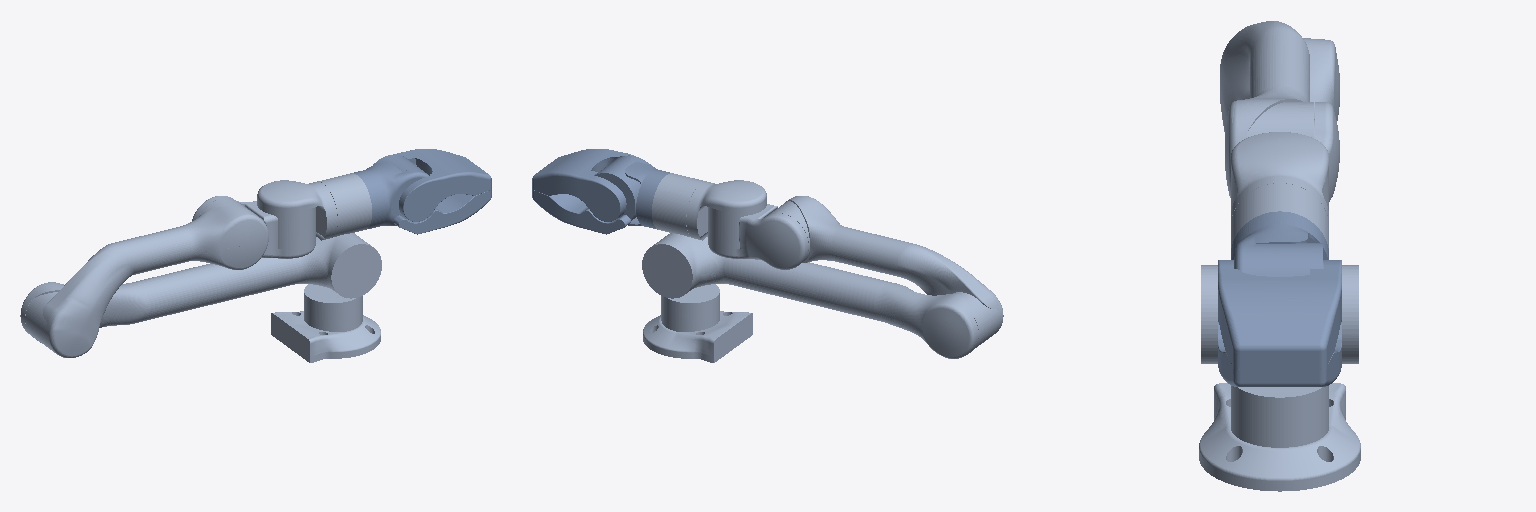
robot.urdf — z1_description:
<?xml version="1.0" ?>
<!-- =================================================================================== -->
<!-- |    This document was autogenerated by xacro from robot.xacro                    | -->
<!-- |    EDITING THIS FILE BY HAND IS NOT RECOMMENDED                                 | -->
<!-- =================================================================================== -->
<robot name="z1_description">
  <material name="light_blue">
      <color rgba="0.6980 0.7529 0.8392 1"/>
  </material>
  <material name="dark_blue">
      <color rgba="0.5569 0.6313 0.7479 1"/>
  </material>
  <gazebo>
    <plugin filename="libgazebo_ros_control.so" name="gazebo_ros_control">
      <robotNamespace>/z1_gazebo</robotNamespace>
      <robotSimType>gazebo_ros_control/DefaultRobotHWSim</robotSimType>
    </plugin>
  </gazebo>
  <gazebo reference="link04">
    <self_collide>true</self_collide>
  </gazebo>
  <gazebo reference="link05">
    <self_collide>true</self_collide>
  </gazebo>
  <gazebo reference="link06">
    <self_collide>true</self_collide>
  </gazebo>
  <link name="world"/>
  <joint name="base_static_joint" type="fixed">
    <origin rpy="0 0 0" xyz="0 0 0"/>
    <parent link="world"/>
    <child link="link00"/>
  </joint>
  <link name="link00">
    <visual>
      <origin rpy="0 0 0" xyz="0 0 0"/>
      <geometry>
        <mesh filename="package://example-robot-data/robots/z1_description/meshes/visual/z1_Link00.dae" scale="1 1 1"/>
      </geometry>
      <material name="light_blue"/>
    </visual>
    <collision>
      <geometry>
        <cylinder length="0.051" radius="0.0325"/>
      </geometry>
      <origin rpy="0 0 0" xyz="0 0 0.0255"/>
    </collision>
    <inertial>
      <origin rpy="0 0 0" xyz="-0.00334984 -0.00013615 0.02495843"/>
      <mass value="0.47247481"/>
      <inertia ixx="0.00037937" ixy="-3.5e-07" ixz="-1.037e-05" iyy="0.00041521" iyz="-9.9e-07" izz="0.00053066"/>
    </inertial>
  </link>
  <joint name="joint1" type="revolute">
    <origin rpy="0 0 0" xyz="0 0 0.0585"/>
    <parent link="link00"/>
    <child link="link01"/>
    <axis xyz="0 0 1"/>
    <dynamics damping="1.0" friction="1.0"/>
    <limit effort="30.0" lower="-2.6179938779914944" upper="2.6179938779914944" velocity="3.1415"/>
  </joint>
  <link name="link01">
    <visual>
      <origin rpy="0 0 0" xyz="0 0 0"/>
      <geometry>
        <mesh filename="package://example-robot-data/robots/z1_description/meshes/visual/z1_Link01.dae" scale="1 1 1"/>
      </geometry>
      <material name="light_blue"/>
    </visual>
    <inertial>
      <origin rpy="0 0 0" xyz="2.47e-06 -0.00025198 0.02317169"/>
      <mass value="0.67332551"/>
      <inertia ixx="0.00128328" ixy="-6e-08" ixz="-4e-07" iyy="0.00071931" iyz="5e-07" izz="0.00083936"/>
    </inertial>
  </link>
  <joint name="joint2" type="revolute">
    <origin rpy="0 0 0" xyz="0 0 0.045"/>
    <parent link="link01"/>
    <child link="link02"/>
    <axis xyz="0 1 0"/>
    <dynamics damping="2.0" friction="2.0"/>
    <limit effort="60.0" lower="0.0" upper="2.9670597283903604" velocity="3.1415"/>
  </joint>
  <link name="link02">
    <visual>
      <origin rpy="0 0 0" xyz="0 0 0"/>
      <geometry>
        <mesh filename="package://example-robot-data/robots/z1_description/meshes/visual/z1_Link02.dae" scale="1 1 1"/>
      </geometry>
      <material name="light_blue"/>
    </visual>
    <collision>
      <geometry>
        <cylinder length="0.102" radius="0.0325"/>
      </geometry>
      <origin rpy="1.5707963267948966 0 0" xyz="0 0 0"/>
    </collision>
    <collision>
      <geometry>
        <cylinder length="0.235" radius="0.0225"/>
      </geometry>
      <origin rpy="0 1.5707963267948966 0" xyz="-0.16249999999999998 0 0"/>
    </collision>
    <collision>
      <geometry>
        <cylinder length="0.051" radius="0.0325"/>
      </geometry>
      <origin rpy="1.5707963267948966 0 0" xyz="-0.35 0 0"/>
    </collision>
    <inertial>
      <origin rpy="0 0 0" xyz="-0.11012601 0.00240029 0.00158266"/>
      <mass value="1.19132258"/>
      <inertia ixx="0.00102138" ixy="0.00062358" ixz="5.13e-06" iyy="0.02429457" iyz="-2.1e-06" izz="0.02466114"/>
    </inertial>
  </link>
  <joint name="joint3" type="revolute">
    <origin rpy="0 0 0" xyz="-0.35 0 0"/>
    <parent link="link02"/>
    <child link="link03"/>
    <axis xyz="0 1 0"/>
    <dynamics damping="1.0" friction="1.0"/>
    <limit effort="30.0" lower="-2.8797932657906435" upper="0.0" velocity="3.1415"/>
  </joint>
  <link name="link03">
    <visual>
      <origin rpy="0 0 0" xyz="0 0 0"/>
      <geometry>
        <mesh filename="package://example-robot-data/robots/z1_description/meshes/visual/z1_Link03.dae" scale="1 1 1"/>
      </geometry>
      <material name="light_blue"/>
    </visual>
    <collision>
      <geometry>
        <cylinder length="0.116" radius="0.02"/>
      </geometry>
      <origin rpy="0 1.5707963267948966 0" xyz="0.128 0 0.055"/>
    </collision>
    <collision>
      <geometry>
        <cylinder length="0.059" radius="0.0325"/>
      </geometry>
      <origin rpy="0 1.5707963267948966 1.5707963267948966" xyz="0.2205 0 0.055"/>
    </collision>
    <inertial>
      <origin rpy="0 0 0" xyz="0.10609208 -0.00541815 0.03476383"/>
      <mass value="0.83940874"/>
      <inertia ixx="0.00108061" ixy="-8.669e-05" ixz="-0.00208102" iyy="0.00954238" iyz="-1.332e-05" izz="0.00886621"/>
    </inertial>
  </link>
  <joint name="joint4" type="revolute">
    <origin rpy="0 0 0" xyz="0.218 0 0.057"/>
    <parent link="link03"/>
    <child link="link04"/>
    <axis xyz="0 1 0"/>
    <dynamics damping="1.0" friction="1.0"/>
    <limit effort="30.0" lower="-1.5184364492350666" upper="1.5184364492350666" velocity="3.1415"/>
  </joint>
  <link name="link04">
    <visual>
      <origin rpy="0 0 0" xyz="0 0 0"/>
      <geometry>
        <mesh filename="package://example-robot-data/robots/z1_description/meshes/visual/z1_Link04.dae" scale="1 1 1"/>
      </geometry>
      <material name="light_blue"/>
    </visual>
    <collision>
      <geometry>
        <cylinder length="0.067" radius="0.0325"/>
      </geometry>
      <origin rpy="0 0 0" xyz="0.072 0 0"/>
    </collision>
    <inertial>
      <origin rpy="0 0 0" xyz="0.04366681 0.00364738 -0.00170192"/>
      <mass value="0.56404563"/>
      <inertia ixx="0.00031576" ixy="8.13e-05" ixz="4.091e-05" iyy="0.00092996" iyz="-5.96e-06" izz="0.00097912"/>
    </inertial>
  </link>
  <joint name="joint5" type="revolute">
    <origin rpy="0 0 0" xyz="0.07 0.0 0.0"/>
    <parent link="link04"/>
    <child link="link05"/>
    <axis xyz="0 0 1"/>
    <dynamics damping="1.0" friction="1.0"/>
    <limit effort="30.0" lower="-1.3439035240356338" upper="1.3439035240356338" velocity="3.1415"/>
  </joint>
  <link name="link05">
    <visual>
      <origin rpy="0 0 0" xyz="0 0 0"/>
      <geometry>
        <mesh filename="package://example-robot-data/robots/z1_description/meshes/visual/z1_Link05.dae" scale="1 1 1"/>
      </geometry>
      <material name="light_blue"/>
    </visual>
    <inertial>
      <origin rpy="0 0 0" xyz="0.03121533 0.0 0.00646316"/>
      <mass value="0.38938492"/>
      <inertia ixx="0.00017605" ixy="4e-07" ixz="5.689e-05" iyy="0.00055896" iyz="-1.3e-07" izz="0.0005386"/>
    </inertial>
  </link>
  <joint name="joint6" type="revolute">
    <origin rpy="0 0 0" xyz="0.0492 0.0 0.0"/>
    <parent link="link05"/>
    <child link="link06"/>
    <axis xyz="1 0 0"/>
    <dynamics damping="1.0" friction="1.0"/>
    <limit effort="30.0" lower="-2.792526803190927" upper="2.792526803190927" velocity="3.1415"/>
  </joint>
  <link name="link06">
    <visual>
      <origin rpy="0 0 0" xyz="0 0 0"/>
      <geometry>
        <mesh filename="package://example-robot-data/robots/z1_description/meshes/visual/z1_Link06.dae" scale="1 1 1"/>
      </geometry>
      <material name="light_blue"/>
    </visual>
    <collision>
      <geometry>
        <cylinder length="0.051" radius="0.0325"/>
      </geometry>
      <origin rpy="0 1.5707963267948966 0" xyz="0.0255 0 0"/>
    </collision>
    <inertial>
      <origin rpy="0 0 0" xyz="0.0241569 -0.00017355 -0.00143876"/>
      <mass value="0.28875807"/>
      <inertia ixx="0.00018328" ixy="1.22e-06" ixz="5.4e-07" iyy="0.0001475" iyz="8e-08" izz="0.0001468"/>
    </inertial>
  </link>
  <joint name="gripperStator" type="fixed">
      <origin rpy="0 0 0" xyz="0.051 0.0 0.0"/>
      <parent link="link06"/>
      <child link="gripperStator"/>
  </joint>
  <link name="gripperStator">
      <visual>
          <geometry>
              <mesh filename="package://example-robot-data/robots/z1_description/meshes/visual/z1_GripperStator.dae" scale="1 1 1"/>
          </geometry>
          <material name="dark_blue"/>
      </visual>
      <collision>
          <geometry>
              <mesh filename="package://example-robot-data/robots/z1_description/meshes/collision/z1_GripperStator.STL" scale="1 1 1"/>
          </geometry>
      </collision>
      <inertial>
          <origin rpy="0 0 0" xyz="0.04764427 -0.00035819 -0.00249162"/>
          <mass value="0.52603655"/>
          <inertia ixx="0.00038683" ixy="-0.00000359" ixz="0.00007662" iyy="0.00068614" iyz="0.00000209" izz="0.00066293"/>
      </inertial>
  </link>
  <joint name="jointGripper" type="revolute">
      <origin rpy="0 0 0" xyz="0.049 0.0 0"/>
      <parent link="gripperStator"/>
      <child link="gripperMover"/>
      <axis xyz="0 1 0"/>
      <dynamics damping="1.0" friction="1.0"/>
      <limit effort="30." velocity="3.1415" lower="-1.5707" upper="0.0"/>
  </joint>
  <link name="gripperMover">
      <visual>
          <geometry>
              <mesh filename="package://example-robot-data/robots/z1_description/meshes/visual/z1_GripperMover.dae" scale="1 1 1"/>
          </geometry>
          <material name="dark_blue"/>
      </visual>
      <collision>
          <geometry>
              <mesh filename="package://example-robot-data/robots/z1_description/meshes/collision/z1_GripperMover.STL" scale="1 1 1"/>
          </geometry>
      </collision>
      <inertial>
          <origin rpy="0 0 0" xyz="0.01320633 0.00476708 0.00380534"/>
          <mass value="0.27621302"/>
          <inertia ixx="0.00017716" ixy="0.00001683" ixz="-0.00001786" iyy="0.00026787" iyz="0.00000262" izz="0.00035728"/>
      </inertial>
  </link>
  <transmission name="JointTrans1">
    <type>transmission_interface/SimpleTransmission</type>
    <joint name="joint1">
      <hardwareInterface>hardware_interface/EffortJointInterface</hardwareInterface>
    </joint>
    <actuator name="Actuator1">
      <hardwareInterface>hardware_interface/EffortJointInterface</hardwareInterface>
      <mechanicalReduction>1</mechanicalReduction>
    </actuator>
  </transmission>
  <transmission name="JointTrans2">
    <type>transmission_interface/SimpleTransmission</type>
    <joint name="joint2">
      <hardwareInterface>hardware_interface/EffortJointInterface</hardwareInterface>
    </joint>
    <actuator name="Actuator2">
      <hardwareInterface>hardware_interface/EffortJointInterface</hardwareInterface>
      <mechanicalReduction>1</mechanicalReduction>
    </actuator>
  </transmission>
  <transmission name="JointTrans3">
    <type>transmission_interface/SimpleTransmission</type>
    <joint name="joint3">
      <hardwareInterface>hardware_interface/EffortJointInterface</hardwareInterface>
    </joint>
    <actuator name="Actuator3">
      <hardwareInterface>hardware_interface/EffortJointInterface</hardwareInterface>
      <mechanicalReduction>1</mechanicalReduction>
    </actuator>
  </transmission>
  <transmission name="JointTrans4">
    <type>transmission_interface/SimpleTransmission</type>
    <joint name="joint4">
      <hardwareInterface>hardware_interface/EffortJointInterface</hardwareInterface>
    </joint>
    <actuator name="Actuator4">
      <hardwareInterface>hardware_interface/EffortJointInterface</hardwareInterface>
      <mechanicalReduction>1</mechanicalReduction>
    </actuator>
  </transmission>
  <transmission name="JointTrans5">
    <type>transmission_interface/SimpleTransmission</type>
    <joint name="joint5">
      <hardwareInterface>hardware_interface/EffortJointInterface</hardwareInterface>
    </joint>
    <actuator name="Actuator5">
      <hardwareInterface>hardware_interface/EffortJointInterface</hardwareInterface>
      <mechanicalReduction>1</mechanicalReduction>
    </actuator>
  </transmission>
  <transmission name="JointTrans6">
    <type>transmission_interface/SimpleTransmission</type>
    <joint name="joint6">
      <hardwareInterface>hardware_interface/EffortJointInterface</hardwareInterface>
    </joint>
    <actuator name="Actuator6">
      <hardwareInterface>hardware_interface/EffortJointInterface</hardwareInterface>
      <mechanicalReduction>1</mechanicalReduction>
    </actuator>
  </transmission>
</robot>

--- What the picture shows (computed from the rendered views, not written in the file) ---
The picture shows the robot from 3 angles, left to right: view 1: azimuth 30°, elevation 25°; view 2: azimuth 150°, elevation 25°; view 3: azimuth 270°, elevation 25°; orthographic projection.
Robot: z1_description — 10 links, 9 joints (7 revolute, 2 fixed); root link world; default pose: all joints at 0.
Links seen in each view (by area): view 1: link03, link02, link00, gripperStator, gripperMover, link04, link05, link06; view 2: link02, link03, link00, link04, gripperStator, gripperMover, link05, link06; view 3: link00, gripperMover, link03, gripperStator, link02, link05, link06, link04.
Link boxes in pixels (x1,y1,x2,y2): link03: (25,198,268,357); link02: (20,233,381,342); link00: (271,284,380,362); gripperStator: (354,155,491,234); gripperMover: (393,149,491,221); link04: (192,196,315,258); link05: (257,180,337,240); link06: (317,173,371,237); link02: (642,233,978,358); link03: (769,196,1003,349); link00: (643,284,752,362); link04: (708,202,808,269); gripperStator: (532,155,669,234); gripperMover: (532,149,633,221); link05: (686,180,766,240); link06: (652,173,706,237); link00: (1199,383,1360,491); gripperMover: (1218,260,1341,368); link03: (1220,21,1313,197); gripperStator: (1218,211,1341,386); link02: (1201,38,1358,363); link05: (1231,132,1328,218); link06: (1231,183,1328,247); link04: (1231,102,1339,209).
Size in the robot's own frame: 0.5697 by 0.1065 by 0.198 metres.
Meshes: 9 distinct files referenced, 8 mesh visuals loaded (8 Collada DAE); not drawn: 1 (reference not matched to a file when rendering).